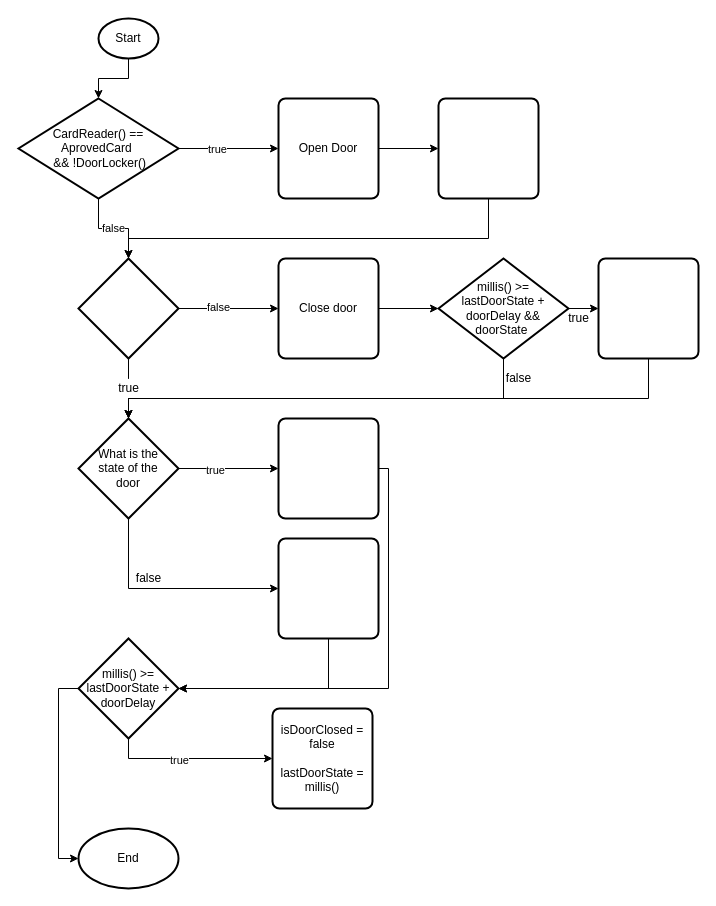
Some shapes in this 716 by 906 pixel diagram are drawn without their labels. Each missing label, with the centre of its shape:
doorState = false isDoorClosed = true: (648,308)
doorState = true LastDoorState = millis(): (488,148)
Is the door closed?: (128,308)
Turn off Light Write to OLED: (328,468)
Turn on Light Write to OLED: (328,588)
